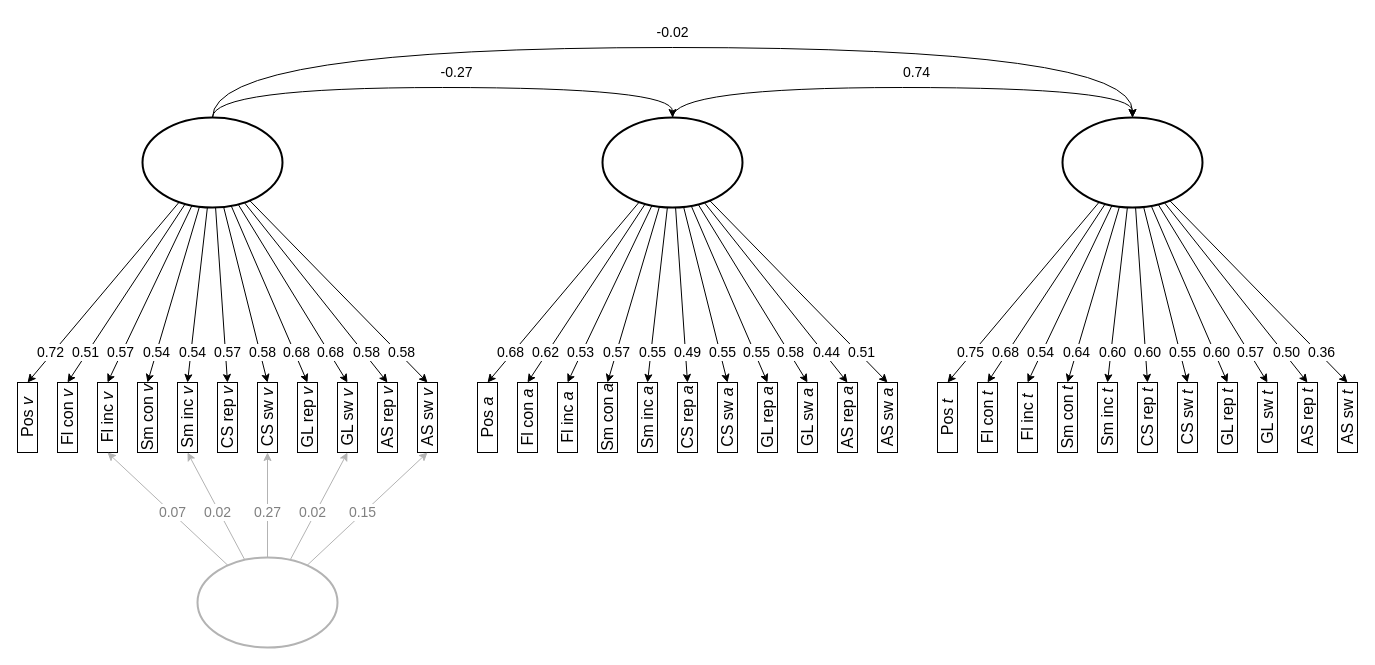
Image size: 1375x665. Some labels were removed from this diagram. Here are the shapes that lost their labels. From the top down, the centre of each, then its label:
At (x=212, y=162): "General processing speed".
At (x=672, y=162): "General response caution".
At (x=1132, y=162): "General non-decision time".
At (x=267, y=602): "Common EF ability".
